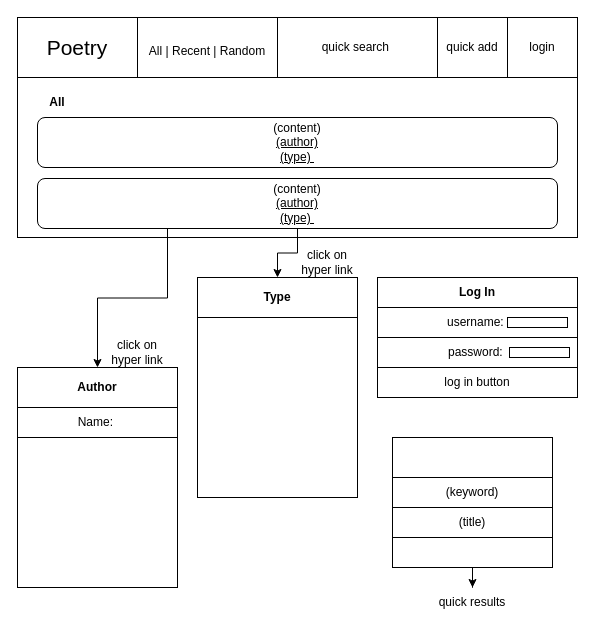
The diagram is 595 pixels wide and 635 high, and some of its shapes have lost their labels. Each missing label, with the centre of its shape:
"(type)" belongs at pixel 472 552.
"all poetry from author" belongs at pixel 97 512.
"all poetry in type" belongs at pixel 277 407.
"search bar" belongs at pixel 472 457.
